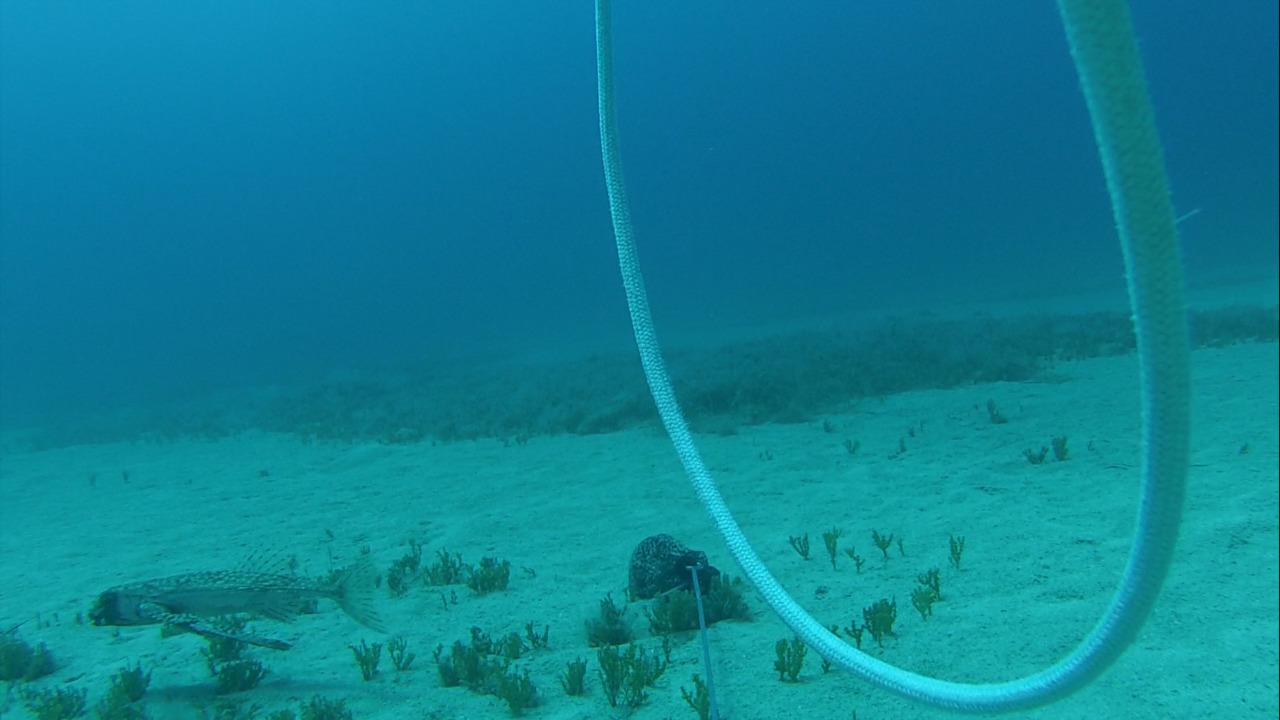dactylopterus: (77, 553, 389, 656)
